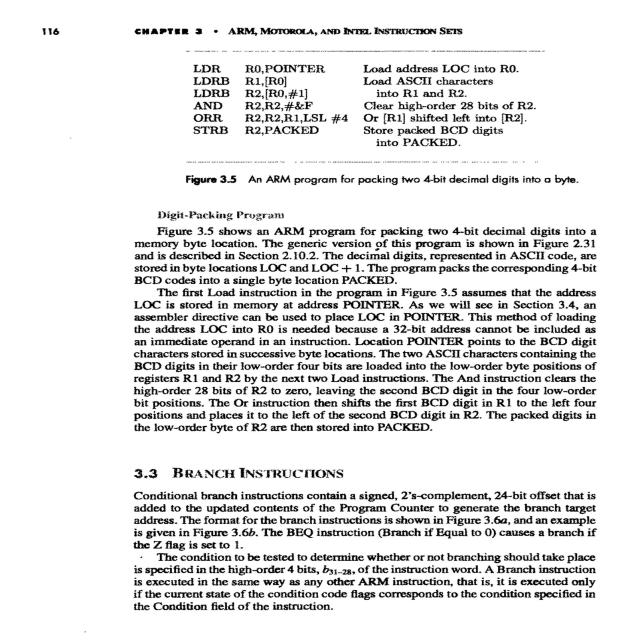diagram: (107, 43, 609, 197)
